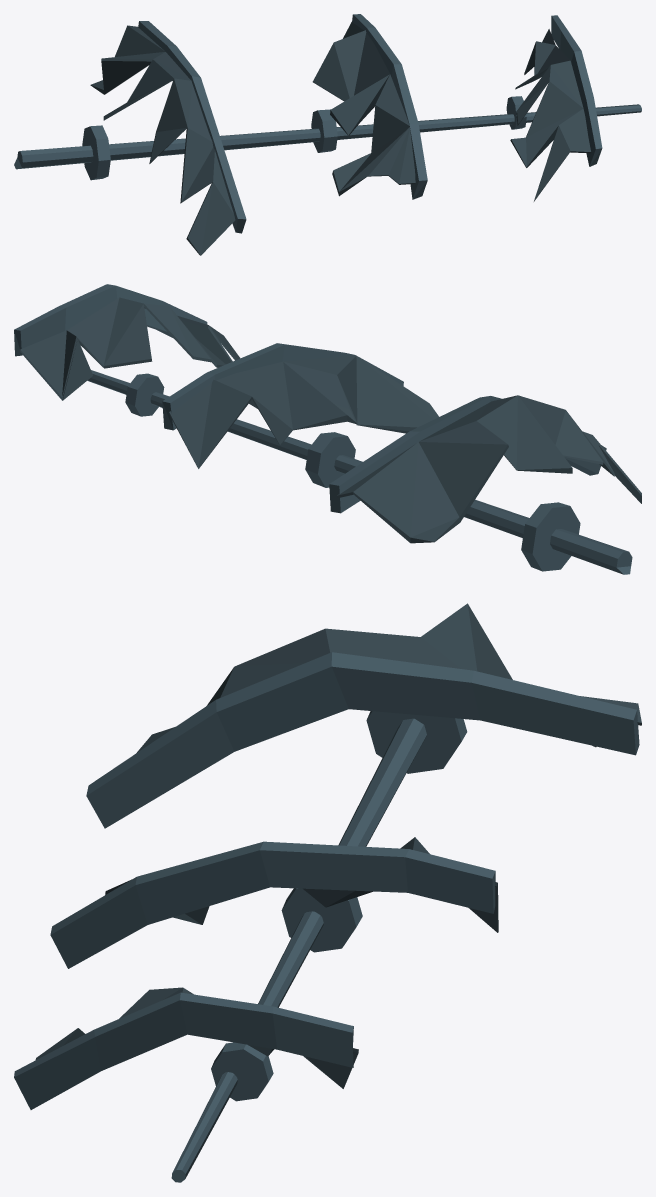
File: Ship_053.glb
The picture shows the model from 3 angles, top to bottom: view 1: azimuth 30°, elevation 25°; view 2: azimuth 150°, elevation 25°; view 3: azimuth 270°, elevation 25°; orthographic projection. The views are drawn at different scales.
Parts seen in each view (by area): view 1: Ship_053; view 2: Ship_053; view 3: Ship_053.
Part boxes in pixels (bbox=[...]): Ship_053: bbox=[14, 14, 641, 255]; Ship_053: bbox=[14, 284, 641, 574]; Ship_053: bbox=[14, 603, 641, 1182].
Bounding box in the file's own units: 10.04 × 2.32 × 5.64.
Materials: 1 (1 with a texture image).
